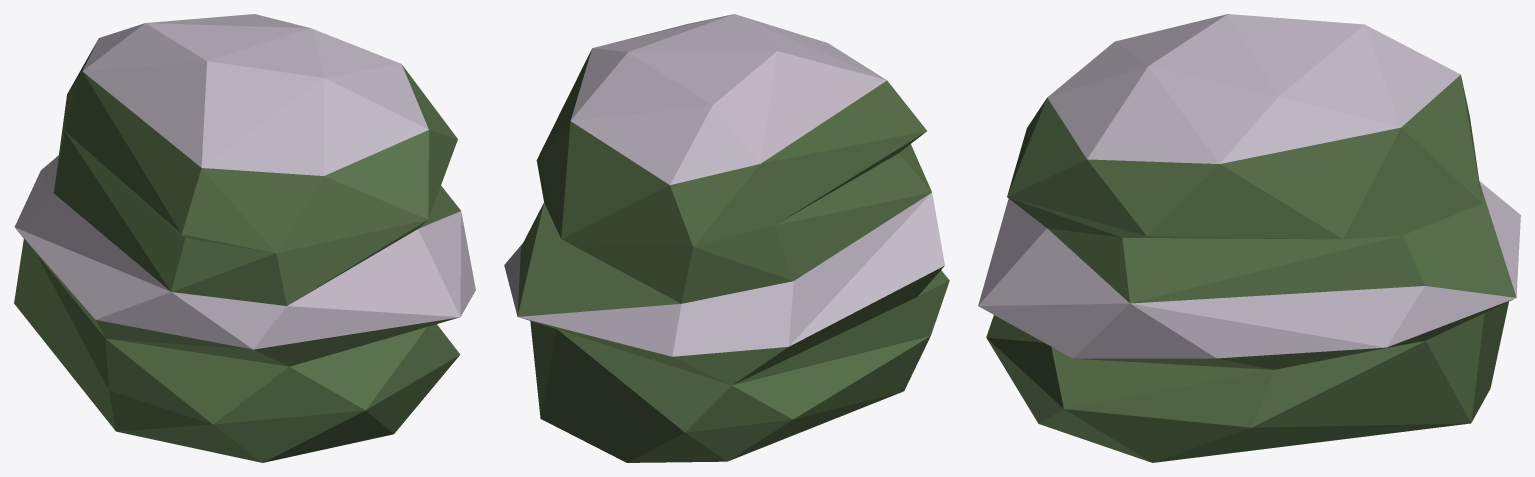
Rendered from Bush_Snow_1.lod2.glb.
The picture shows the model from 3 angles, left to right: view 1: azimuth 30°, elevation 25°; view 2: azimuth 150°, elevation 25°; view 3: azimuth 270°, elevation 25°; orthographic projection. The views are drawn at different scales.
Parts seen in each view (by area): view 1: Bush_Snow_1; view 2: Bush_Snow_1; view 3: Bush_Snow_1.
Part boxes in pixels (x1,y1,x2,y2): Bush_Snow_1: [14, 14, 475, 462]; Bush_Snow_1: [504, 14, 949, 462]; Bush_Snow_1: [978, 14, 1520, 462].
Size of the model in its own units: 1.39 by 1.24 by 1.7.
